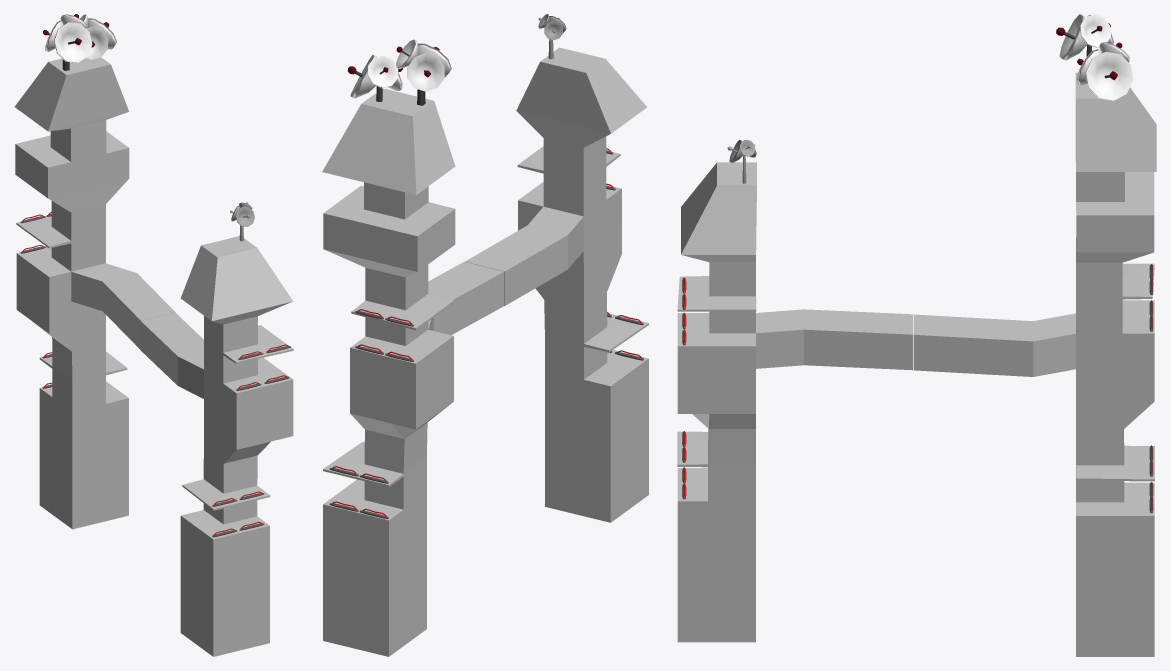
File: HTowerV2JamieB.fbx
3 renders of one model, left to right at view 1: azimuth 30°, elevation 25°; view 2: azimuth 150°, elevation 25°; view 3: azimuth 270°, elevation 25°, orthographic. The views are drawn at different scales.
Parts seen in each view (by area): view 1: pasted__pCylinder19; view 2: pasted__pCylinder19; view 3: pasted__pCylinder19.
Part boxes in pixels (x1,y1,x2,y2): pasted__pCylinder19: [14, 14, 293, 656]; pasted__pCylinder19: [322, 14, 648, 656]; pasted__pCylinder19: [677, 14, 1156, 656].
Bounding box in the file's own units: 1.45 × 8.58 × 6.1.
